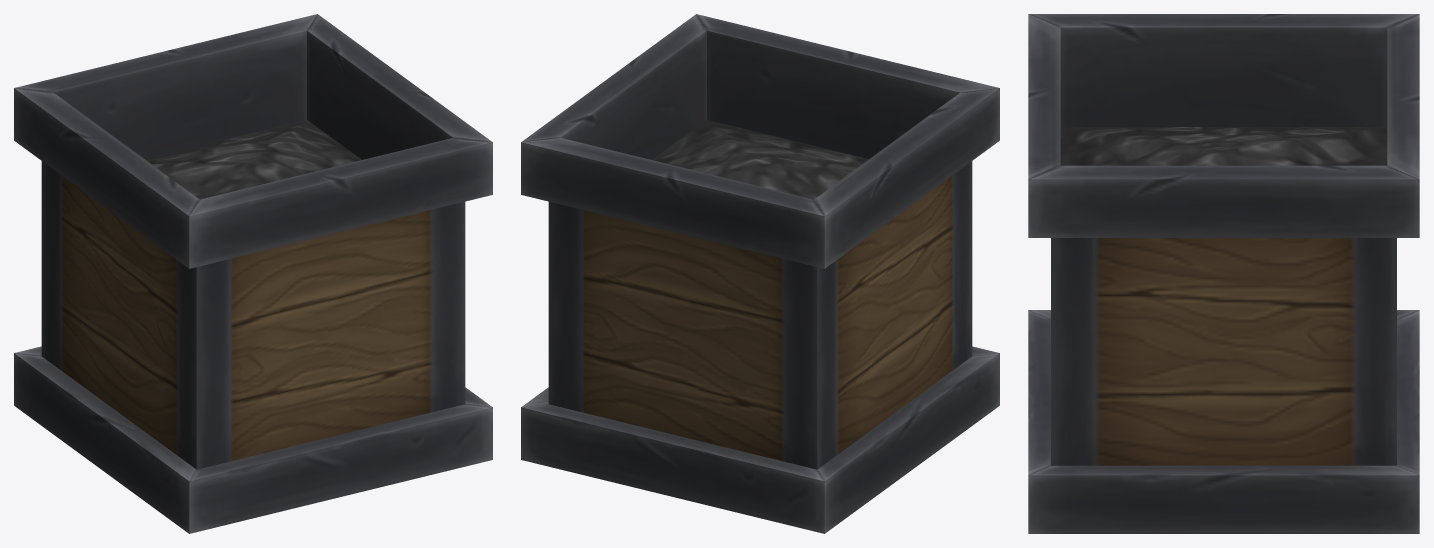
File: Mine_Box.fbx
3 renders of one model, left to right at view 1: azimuth 30°, elevation 25°; view 2: azimuth 150°, elevation 25°; view 3: azimuth 270°, elevation 25°, orthographic. The views are drawn at different scales.
Parts seen in each view (by area): view 1: polySurface1142; view 2: polySurface1142; view 3: polySurface1142.
Boxes of the visible parts, x1,y1,x2,y2 form: polySurface1142: (14,14,492,533); polySurface1142: (521,14,999,533); polySurface1142: (1028,14,1419,533).
Size of the model in its own units: 48.64 by 48.64 by 48.64.
Materials: 1 (1 with a texture image).
